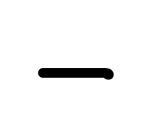minus: (38, 64, 113, 81)
